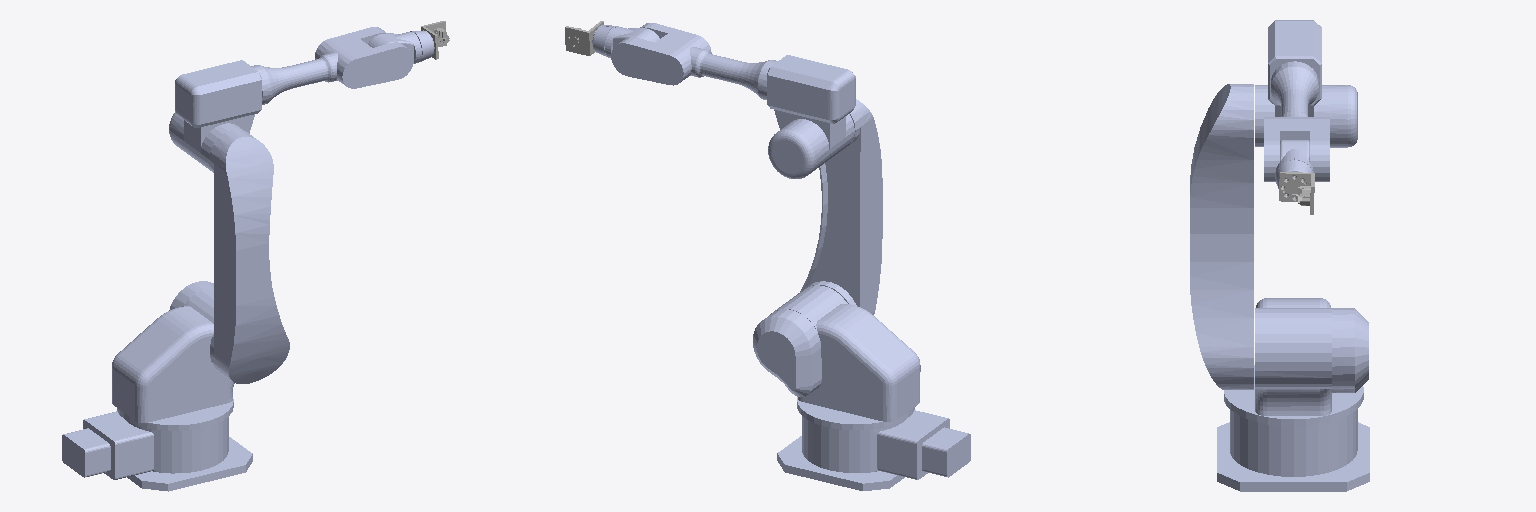
URDF robot description (brrobot_support):
<?xml version="1.0" encoding="utf-8"?>
<!-- This URDF was automatically created by SolidWorks to URDF Exporter! Originally created by [author] ([email redacted]) 
     Commit Version: 1.4.2-27-gc3b3358  Build Version: 1.4.6891.25992
     For more information, please see http://wiki.ros.org/sw_urdf_exporter -->
<robot
  name="brrobot_support">
  <link name="world"/>
  <joint name="fixed" type="fixed">
    <parent link="world"/>
    <child link="base_link"/>
  </joint>
  <link
    name="base_link">
    <inertial>
      <origin
        xyz="-0.049728 7.1768E-08 0.08267"
        rpy="0 0 0" />
      <mass
        value="20.922" />
      <inertia
        ixx="0.19908"
        ixy="1.9487E-07"
        ixz="0.010228"
        iyy="0.3994"
        iyz="5.5752E-08"
        izz="0.49351" />
    </inertial>
    <visual>
      <origin
        xyz="0 0 0"
        rpy="0 0 0" />
      <geometry>
        <mesh
          filename="package://brrobot_support/meshes/base_link.STL" />
      </geometry>
      <material
        name="">
        <color
          rgba="0.79216 0.81961 0.93333 1" />
      </material>
    </visual>
    <collision>
      <origin
        xyz="0 0 0"
        rpy="0 0 0" />
      <geometry>
        <mesh
          filename="package://brrobot_support/meshes/base_link.STL" />
      </geometry>
    </collision>
  </link>
  <link
    name="link_1">
    <inertial>
      <origin
        xyz="0.058419 0.01861 0.15087"
        rpy="0 0 0" />
      <mass
        value="25.285" />
      <inertia
        ixx="0.32151"
        ixy="-0.047397"
        ixz="-0.10924"
        iyy="0.51929"
        iyz="-0.02335"
        izz="0.48128" />
    </inertial>
    <visual>
      <origin
        xyz="0 0 0"
        rpy="0 0 0" />
      <geometry>
        <mesh
          filename="package://brrobot_support/meshes/link_1.STL" />
      </geometry>
      <material
        name="">
        <color
          rgba="0.79216 0.81961 0.93333 1" />
      </material>
    </visual>
    <collision>
      <origin
        xyz="0 0 0"
        rpy="0 0 0" />
      <geometry>
        <mesh
          filename="package://brrobot_support/meshes/link_1.STL" />
      </geometry>
    </collision>
  </link>
  <joint
    name="joint_1"
    type="revolute">
    <origin
      xyz="0 0 0.177"
      rpy="0 0 0" />
    <parent
      link="base_link" />
    <child
      link="link_1" />
    <axis
      xyz="0 0 1" />
    <limit
      lower="-2.8798"
      upper="2.8798"
      effort="100"
      velocity="3" />
  </joint>
  <link
    name="link_2">
    <inertial>
      <origin
        xyz="0.026787 -0.28219 0.079462"
        rpy="0 0 0" />
      <mass
        value="15.23" />
      <inertia
        ixx="0.85504"
        ixy="0.04009"
        ixz="-0.0042243"
        iyy="0.061785"
        iyz="0.0050321"
        izz="0.8647" />
    </inertial>
    <visual>
      <origin
        xyz="0 0 0"
        rpy="0 0 0" />
      <geometry>
        <mesh
          filename="package://brrobot_support/meshes/link_2.STL" />
      </geometry>
      <material
        name="">
        <color
          rgba="0.79216 0.81961 0.93333 1" />
      </material>
    </visual>
    <collision>
      <origin
        xyz="0 0 0"
        rpy="0 0 0" />
      <geometry>
        <mesh
          filename="package://brrobot_support/meshes/link_2.STL" />
      </geometry>
    </collision>
  </link>
  <joint
    name="joint_2"
    type="revolute">
    <origin
      xyz="0.16933 -0.1025 0.21503"
      rpy="-1.5708 0 3.1416" />
    <parent
      link="link_1" />
    <child
      link="link_2" />
    <axis
      xyz="0 0 1" />
    <limit
      lower="-1.6581"
      upper="1.2217"
      effort="100"
      velocity="3" />
  </joint>
  <link
    name="link_3">
    <inertial>
      <origin
        xyz="0.0059341 -0.071978 0.11985"
        rpy="0 0 0" />
      <mass
        value="10.493" />
      <inertia
        ixx="0.11794"
        ixy="0.0037363"
        ixz="0.00089381"
        iyy="0.074137"
        iyz="-0.010842"
        izz="0.11113" />
    </inertial>
    <visual>
      <origin
        xyz="0 0 0"
        rpy="0 0 0" />
      <geometry>
        <mesh
          filename="package://brrobot_support/meshes/link_3.STL" />
      </geometry>
      <material
        name="">
        <color
          rgba="0.79216 0.81961 0.93333 1" />
      </material>
    </visual>
    <collision>
      <origin
        xyz="0 0 0"
        rpy="0 0 0" />
      <geometry>
        <mesh
          filename="package://brrobot_support/meshes/link_3.STL" />
      </geometry>
    </collision>
  </link>
  <joint
    name="joint_3"
    type="revolute">
    <origin
      xyz="0.02522 -0.64993 0"
      rpy="-3.1416 0 3.1416" />
    <parent
      link="link_2" />
    <child
      link="link_3" />
    <axis
      xyz="0 0 -1" />
    <limit
      lower="-1.4835"
      upper="1.6581"
      effort="100"
      velocity="3" />
  </joint>
  <link
    name="link_4">
    <inertial>
      <origin
        xyz="4.1836E-08 -0.0051512 0.29261"
        rpy="0 0 0" />
      <mass
        value="4.8389" />
      <inertia
        ixx="0.11888"
        ixy="-2.2776E-10"
        ixz="9.5389E-09"
        iyy="0.11202"
        iyz="0.0027621"
        izz="0.014118" />
    </inertial>
    <visual>
      <origin
        xyz="0 0 0"
        rpy="0 0 0" />
      <geometry>
        <mesh
          filename="package://brrobot_support/meshes/link_4.STL" />
      </geometry>
      <material
        name="">
        <color
          rgba="0.79216 0.81961 0.93333 1" />
      </material>
    </visual>
    <collision>
      <origin
        xyz="0 0 0"
        rpy="0 0 0" />
      <geometry>
        <mesh
          filename="package://brrobot_support/meshes/link_4.STL" />
      </geometry>
    </collision>
  </link>
  <joint
    name="joint_4"
    type="revolute">
    <origin
      xyz="0.133 -0.15574 0.1055"
      rpy="-1.5708 0 -1.5708" />
    <parent
      link="link_3" />
    <child
      link="link_4" />
    <axis
      xyz="0 0 1" />
    <limit
      lower="-3.1416"
      upper="3.1416"
      effort="100"
      velocity="3" />
  </joint>
  <link
    name="link_5">
    <inertial>
      <origin
        xyz="-3.1727E-06 0.02581 -2.3376E-11"
        rpy="0 0 0" />
      <mass
        value="1.1224" />
      <inertia
        ixx="0.002587"
        ixy="2.464E-07"
        ixz="5.046E-10"
        iyy="0.0014218"
        iyz="1.6148E-12"
        izz="0.0028805" />
    </inertial>
    <visual>
      <origin
        xyz="0 0 0"
        rpy="0 0 0" />
      <geometry>
        <mesh
          filename="package://brrobot_support/meshes/link_5.STL" />
      </geometry>
      <material
        name="">
        <color
          rgba="0.79216 0.81961 0.93333 1" />
      </material>
    </visual>
    <collision>
      <origin
        xyz="0 0 0"
        rpy="0 0 0" />
      <geometry>
        <mesh
          filename="package://brrobot_support/meshes/link_5.STL" />
      </geometry>
    </collision>
  </link>
  <joint
    name="joint_5"
    type="revolute">
    <origin
      xyz="0 0 0.474"
      rpy="1.5708 0 0" />
    <parent
      link="link_4" />
    <child
      link="link_5" />
    <axis
      xyz="0 0 -1" />
    <limit
      lower="-2.0071"
      upper="2.0071"
      effort="100"
      velocity="3" />
  </joint>
  <link
    name="link_6">
    <inertial>
      <origin
        xyz="-1.6833E-05 5.3776E-16 0.022885"
        rpy="0 0 0" />
      <mass
        value="0.32394" />
      <inertia
        ixx="0.00023753"
        ixy="-6.2478E-08"
        ixz="-6.6739E-08"
        iyy="0.0002374"
        iyz="-1.2756E-17"
        izz="0.00034886" />
    </inertial>
    <visual>
      <origin
        xyz="0 0 0"
        rpy="0 0 0" />
      <geometry>
        <mesh
          filename="package://brrobot_support/meshes/link_6.STL" />
      </geometry>
      <material
        name="">
        <color
          rgba="0.79216 0.81961 0.93333 1" />
      </material>
    </visual>
    <collision>
      <origin
        xyz="0 0 0"
        rpy="0 0 0" />
      <geometry>
        <mesh
          filename="package://brrobot_support/meshes/link_6.STL" />
      </geometry>
    </collision>
  </link>
  <joint
    name="joint_6"
    type="revolute">
    <origin
      xyz="0 0.102 0"
      rpy="-1.5708 0 0" />
    <parent
      link="link_5" />
    <child
      link="link_6" />
    <axis
      xyz="0 0 1" />
    <limit
      lower="-6.2832"
      upper="6.2832"
      effort="100"
      velocity="3" />
  </joint>
  <link
    name="last_link">
    <inertial>
      <origin
        xyz="-0.00094656 -0.023469 0.025359"
        rpy="0 0 0" />
      <mass
        value="0.12941" />
      <inertia
        ixx="0.00018203"
        ixy="-1.3413E-06"
        ixz="2.1618E-06"
        iyy="0.00015413"
        iyz="5.3131E-05"
        izz="0.00016514" />
    </inertial>
    <visual>
      <origin
        xyz="0 0 0"
        rpy="0 0 0" />
      <geometry>
        <mesh
          filename="package://brrobot_support/meshes/last_link.STL" />
      </geometry>
      <material
        name="">
        <color
          rgba="0.75294 0.75294 0.75294 1" />
      </material>
    </visual>
    <collision>
      <origin
        xyz="0 0 0"
        rpy="0 0 0" />
      <geometry>
        <mesh
          filename="package://brrobot_support/meshes/last_link.STL" />
      </geometry>
    </collision>
  </link>
  <joint
    name="last_joint"
    type="fixed">
    <origin
      xyz="0 0 0.052"
      rpy="0 0 0" />
    <parent
      link="link_6" />
    <child
      link="last_link" />
    <axis
      xyz="0 0 0" />
    <limit
      lower="0"
      upper="0"
      effort="0"
      velocity="0" />
  </joint>
</robot>

--- Render facts (derived) ---
3 views of the same robot in one strip: view 1: azimuth 30°, elevation 25°; view 2: azimuth 150°, elevation 25°; view 3: azimuth 270°, elevation 25° (orthographic).
Robot: brrobot_support — 9 links, 8 joints (6 revolute, 2 fixed); root link world; default pose: every joint at zero.
Links seen in each view (by area): view 1: link_2, link_1, base_link, link_3, link_4, link_5; view 2: link_1, link_2, base_link, link_3, link_4, last_link, link_5; view 3: link_2, link_1, base_link, link_3, link_4, last_link, link_5.
Boxes of the visible links, x1,y1,x2,y2 form: link_2: [209, 129, 289, 383]; link_1: [112, 281, 234, 430]; base_link: [62, 411, 252, 491]; link_3: [169, 60, 261, 171]; link_4: [251, 27, 413, 104]; link_5: [368, 32, 421, 63]; link_1: [753, 285, 920, 429]; link_2: [800, 99, 882, 314]; base_link: [777, 410, 970, 490]; link_3: [767, 55, 855, 178]; link_4: [611, 23, 777, 99]; last_link: [565, 21, 603, 55]; link_5: [605, 26, 659, 57]; link_2: [1190, 84, 1253, 389]; link_1: [1224, 298, 1368, 426]; base_link: [1217, 409, 1369, 491]; link_3: [1255, 20, 1357, 147]; link_4: [1264, 61, 1329, 181]; last_link: [1279, 172, 1314, 214]; link_5: [1275, 140, 1313, 175].
Bounding box of the posed robot: 1.35 × 0.465 × 1.27 m (x, y, z).
8 mesh visuals loaded from 8 distinct referenced files (8 binary STL).